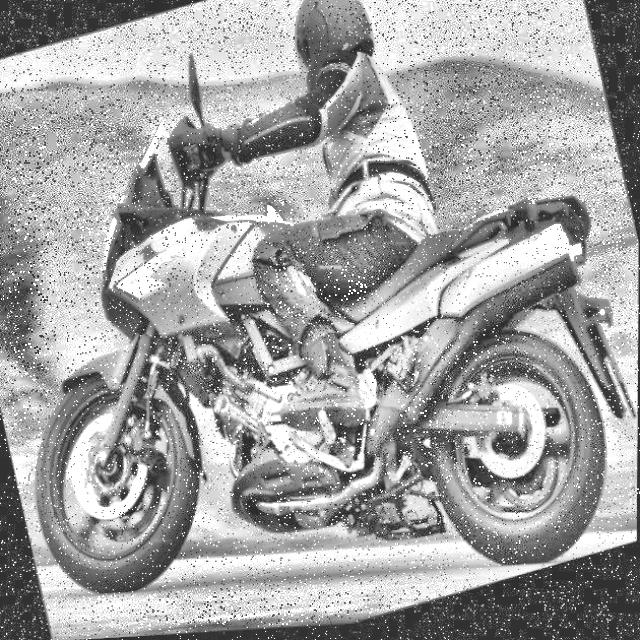Helmet: (277, 0, 387, 104)
